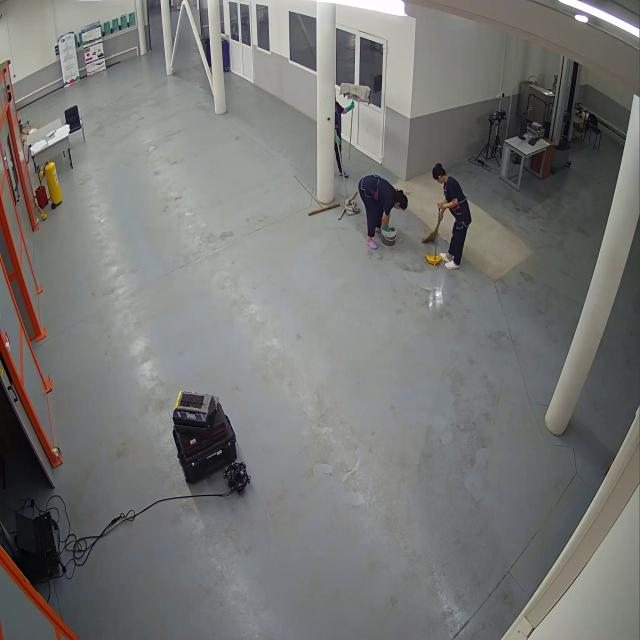NO-Hardhat: (434, 163, 443, 181), (401, 192, 408, 210)
Person: (432, 162, 473, 272), (357, 171, 409, 250), (336, 87, 355, 179)
